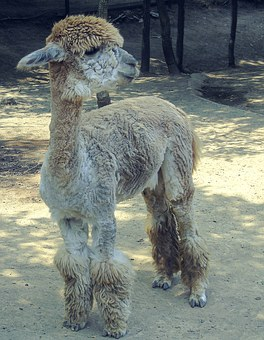alpaca: (17, 15, 210, 338)
